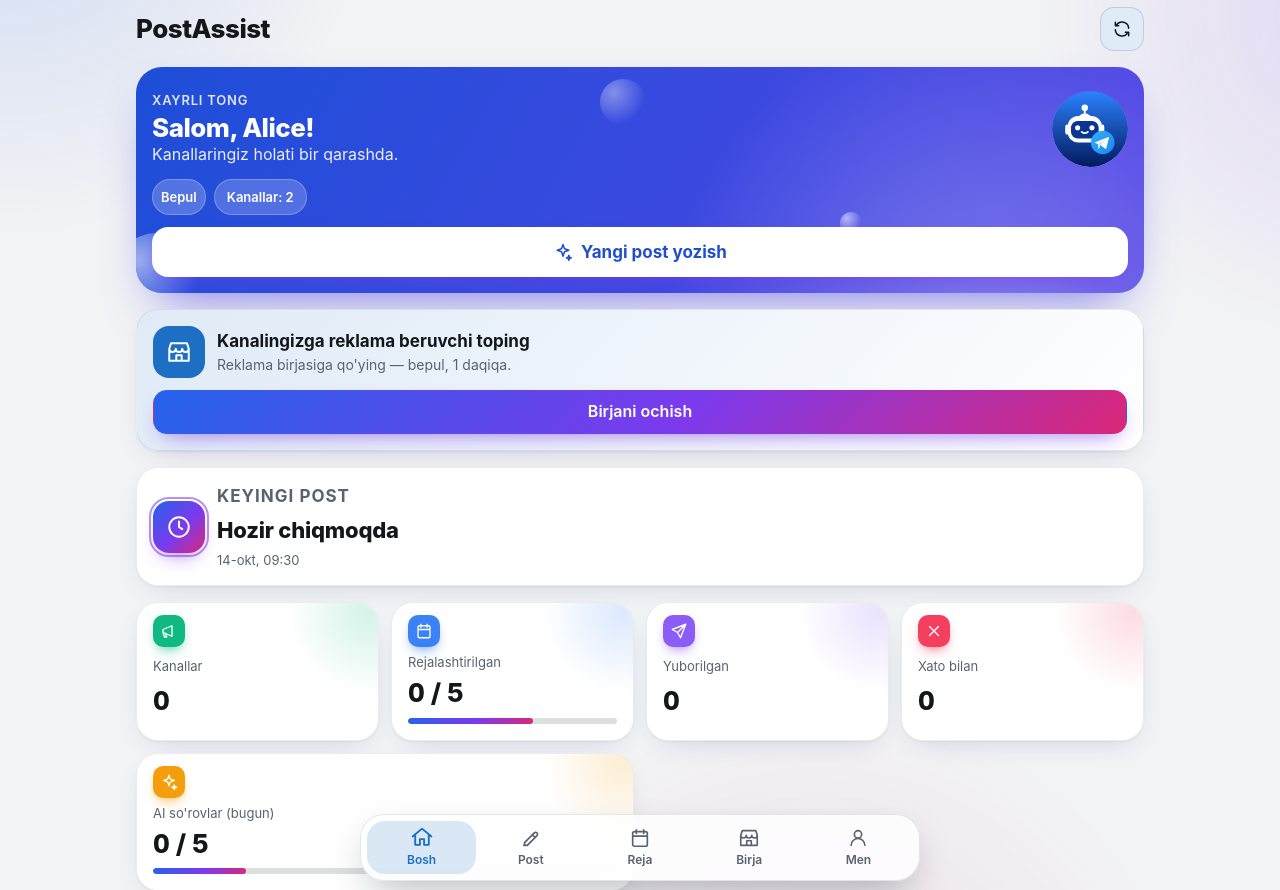
Test: Aqlli rejalash › qo'llangan taklif bilan yuborish: createPost recurrence va scheduled_at bilan boradi
Expected: the heading "Salom, Alice!" is shown, [152, 112, 314, 143]
Click the button "Post": (531, 847) [476, 821, 585, 874]
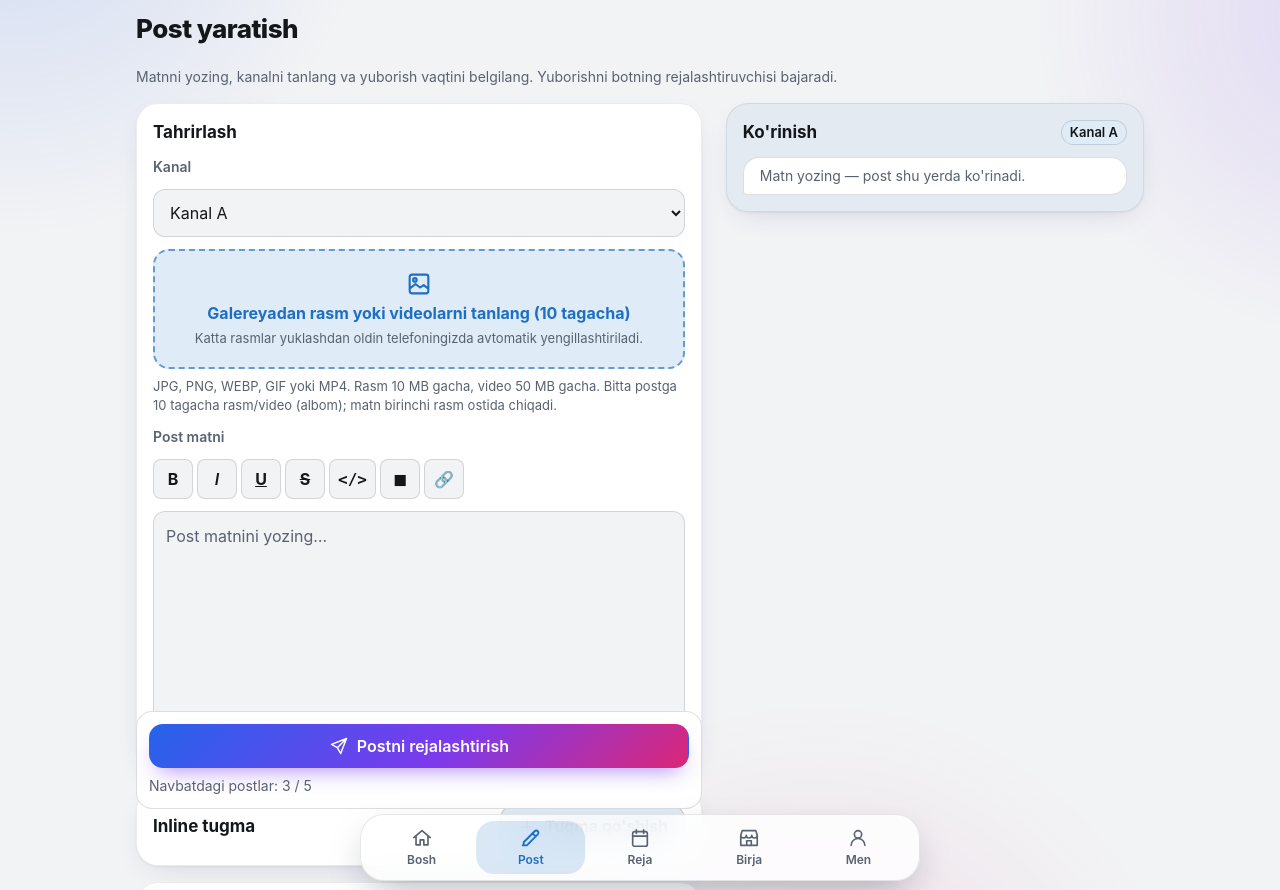
Select "Kanal A" in the dropdown labelled "Kanal": (419, 213) [153, 189, 685, 237]
Clear the field named "Post matni": (419, 617) [153, 511, 685, 722]
(page scrolled)
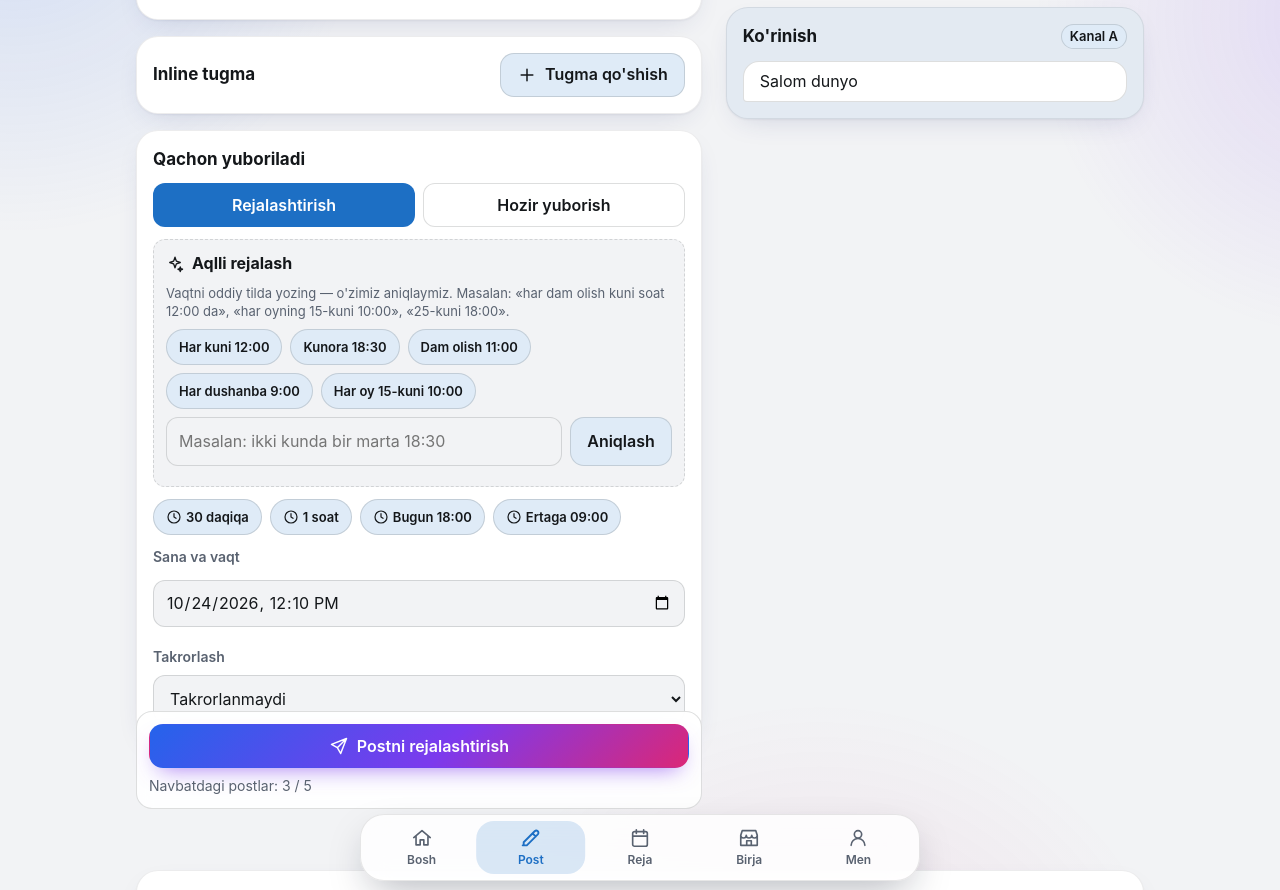
In the field named "Aqlli rejalash": (364, 442) [166, 417, 562, 466], type "kunora 12:00"
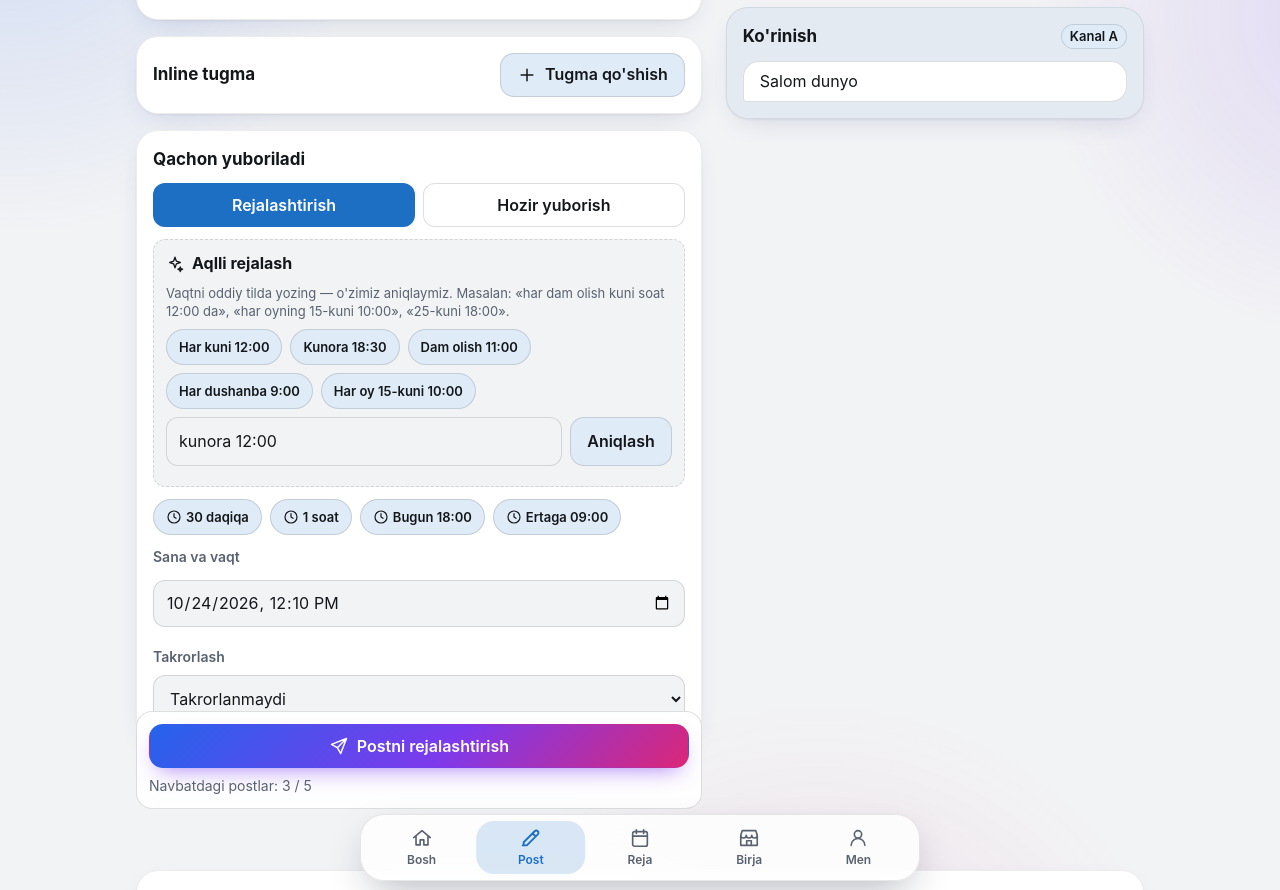
Click the button "Aniqlash": (621, 442) [570, 417, 672, 466]
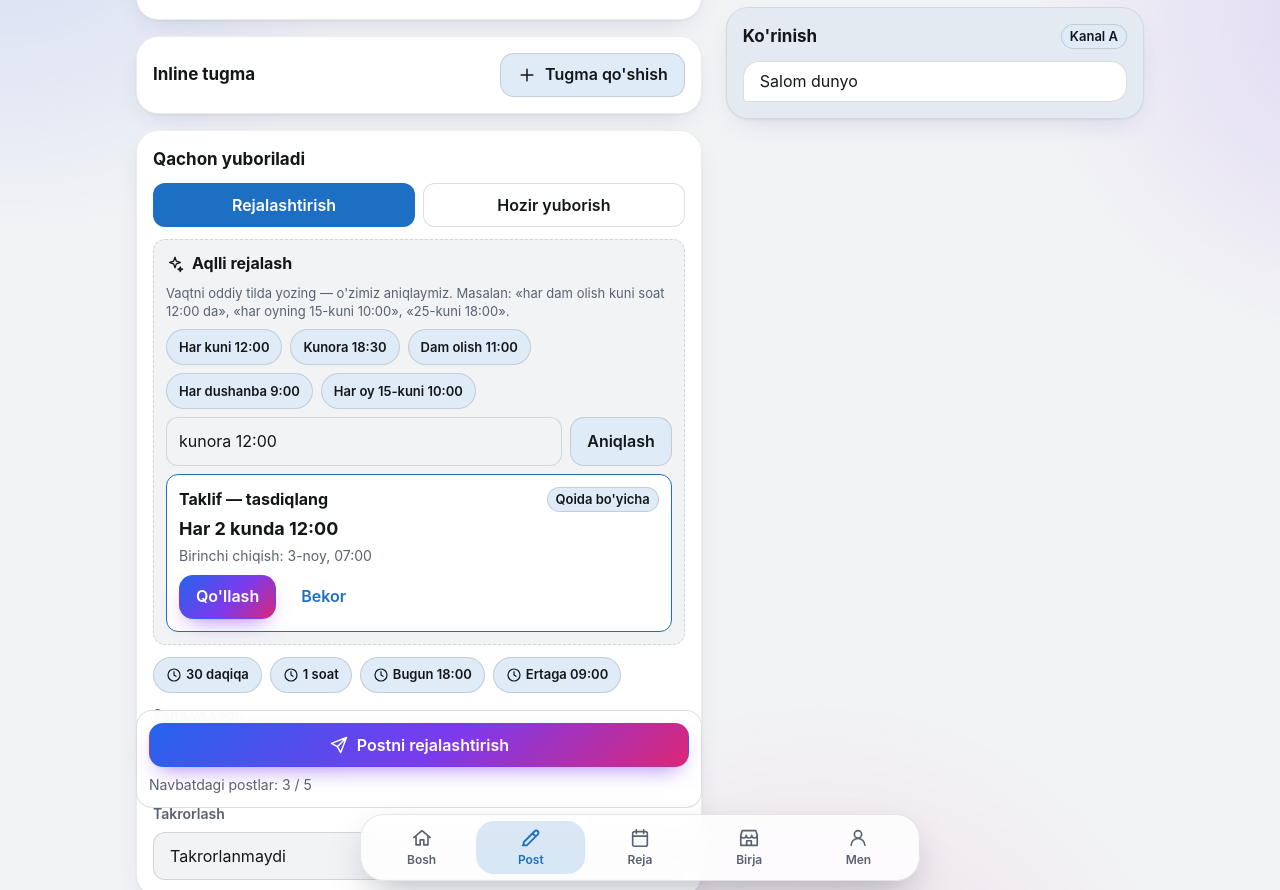
Click the button "Qo'llash": (228, 597) [179, 575, 276, 619]
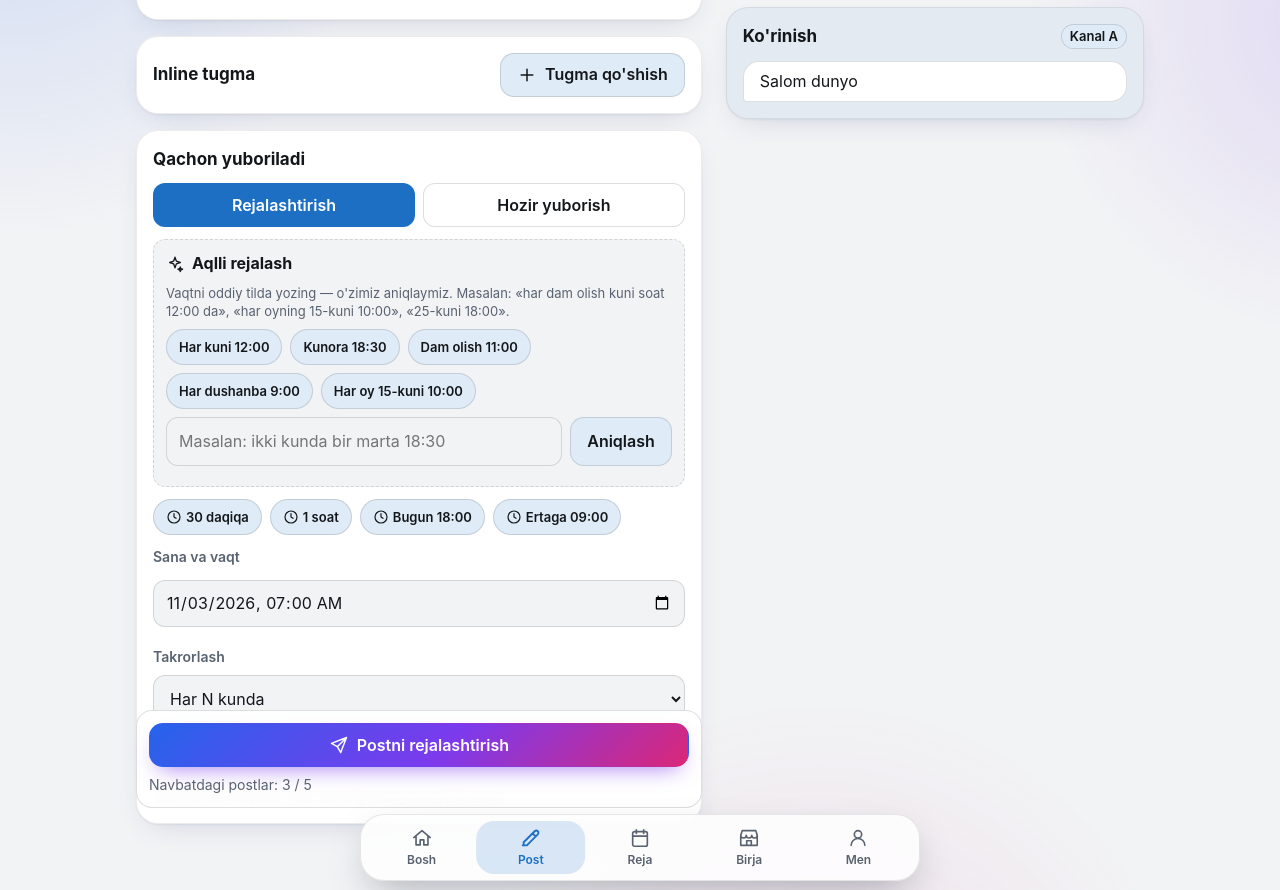
Click the button "Postni rejalashtirish": (419, 746) [149, 724, 689, 768]
(page scrolled)
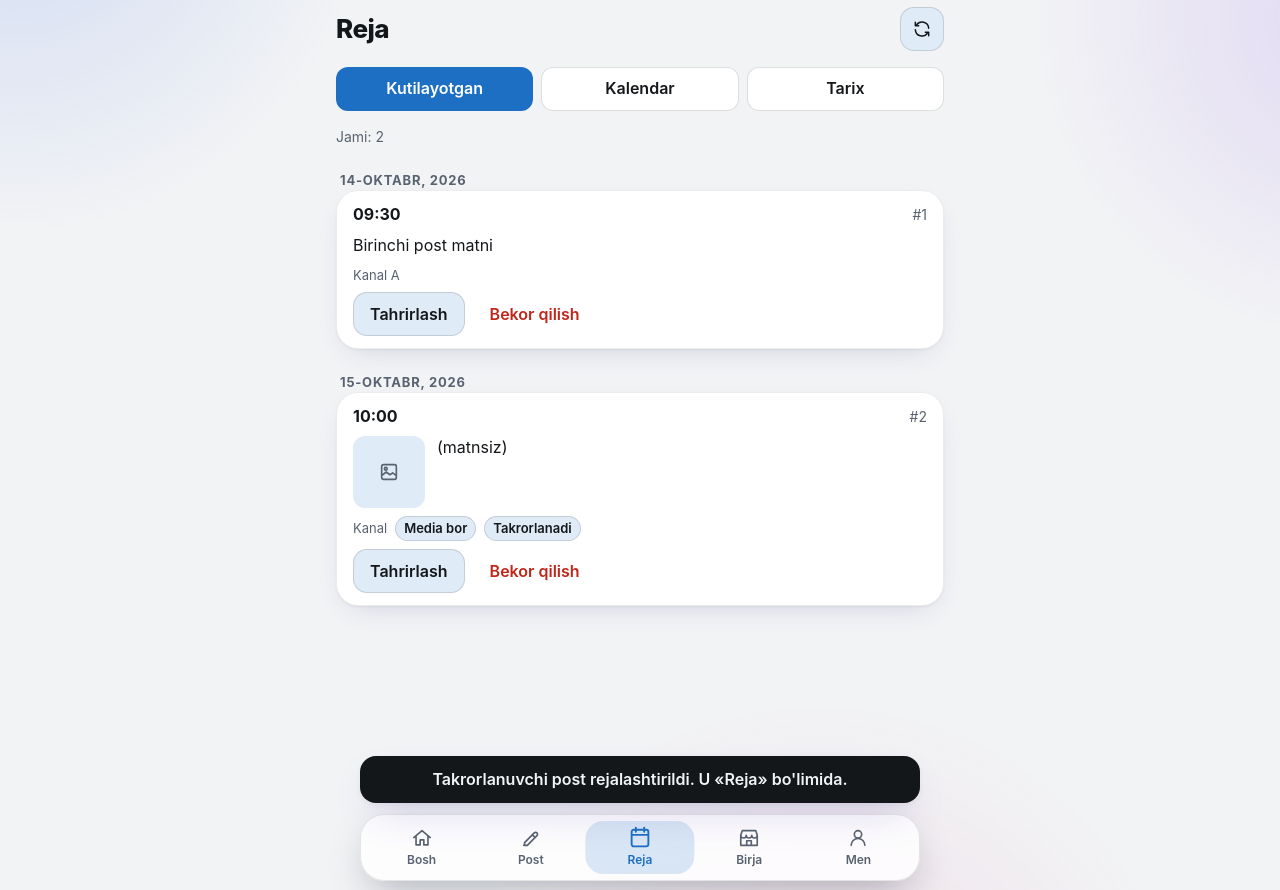
Result: the text "Takrorlanuvchi post rejalashtirildi. U «Reja» bo'limida." is shown at [360, 756, 920, 803]
